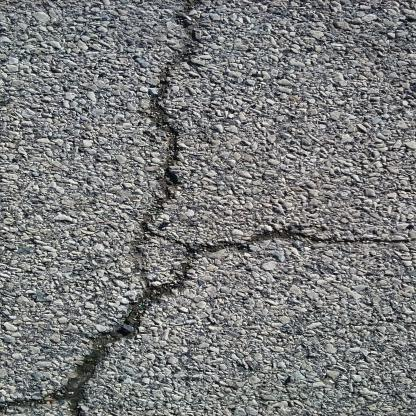Cracks: (0, 226, 415, 415), (120, 1, 226, 293)
